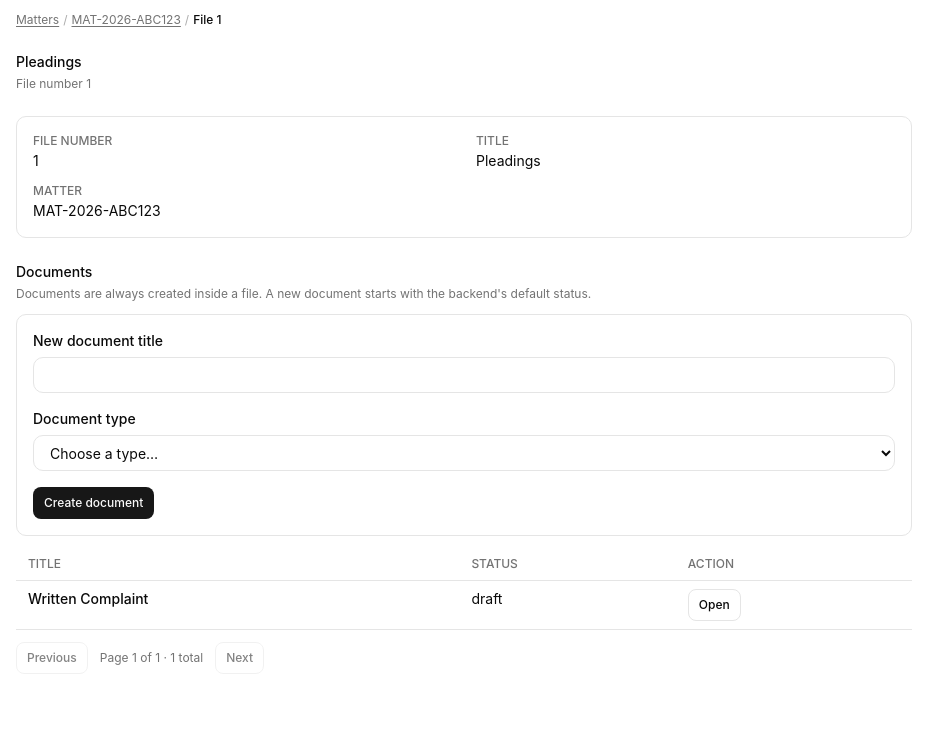
Test: FileDetailPage › requires a title and a type before creating a document
Expected: the text "Written Complaint" is shown, [16,580,459,630]
Click the button "Create document": (94, 503) [33,487,154,519]
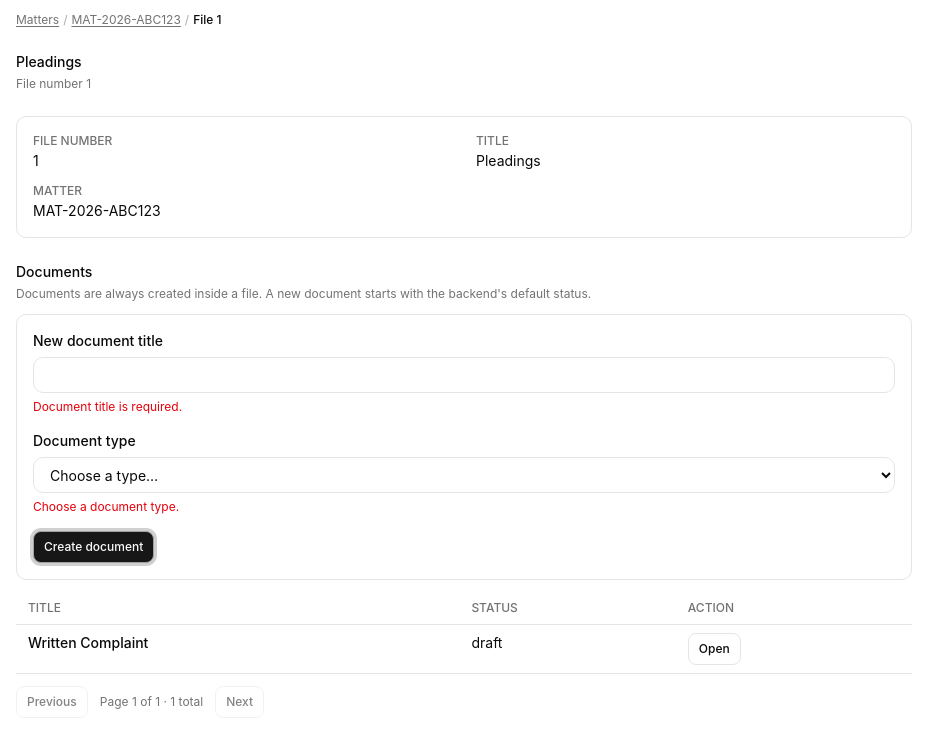
Expected: the text "Document title is required." is shown, [33,399,182,414]
Expected: the text "Choose a document type." is shown, [33,499,179,514]
